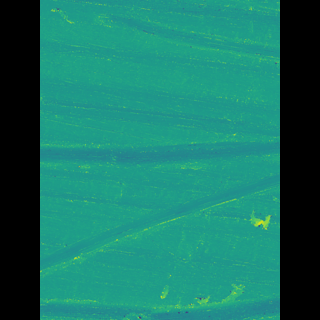Loch: (69, 170, 249, 279), (110, 9, 250, 63), (69, 137, 249, 167), (69, 301, 251, 319)
